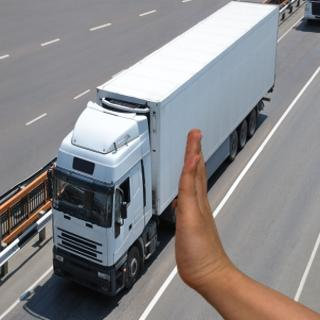RIGHT: (166, 124, 238, 288)
